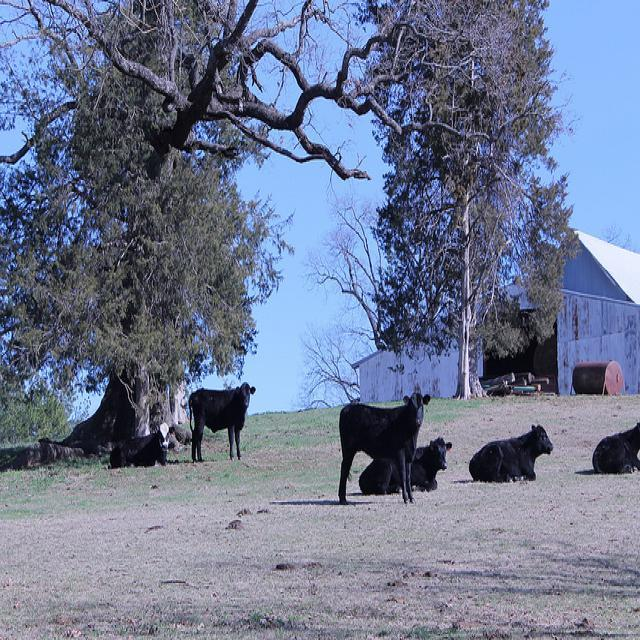cow: (336, 388, 433, 502), (185, 379, 256, 460), (357, 435, 451, 493), (467, 421, 552, 480), (107, 418, 168, 468), (591, 421, 639, 472)
